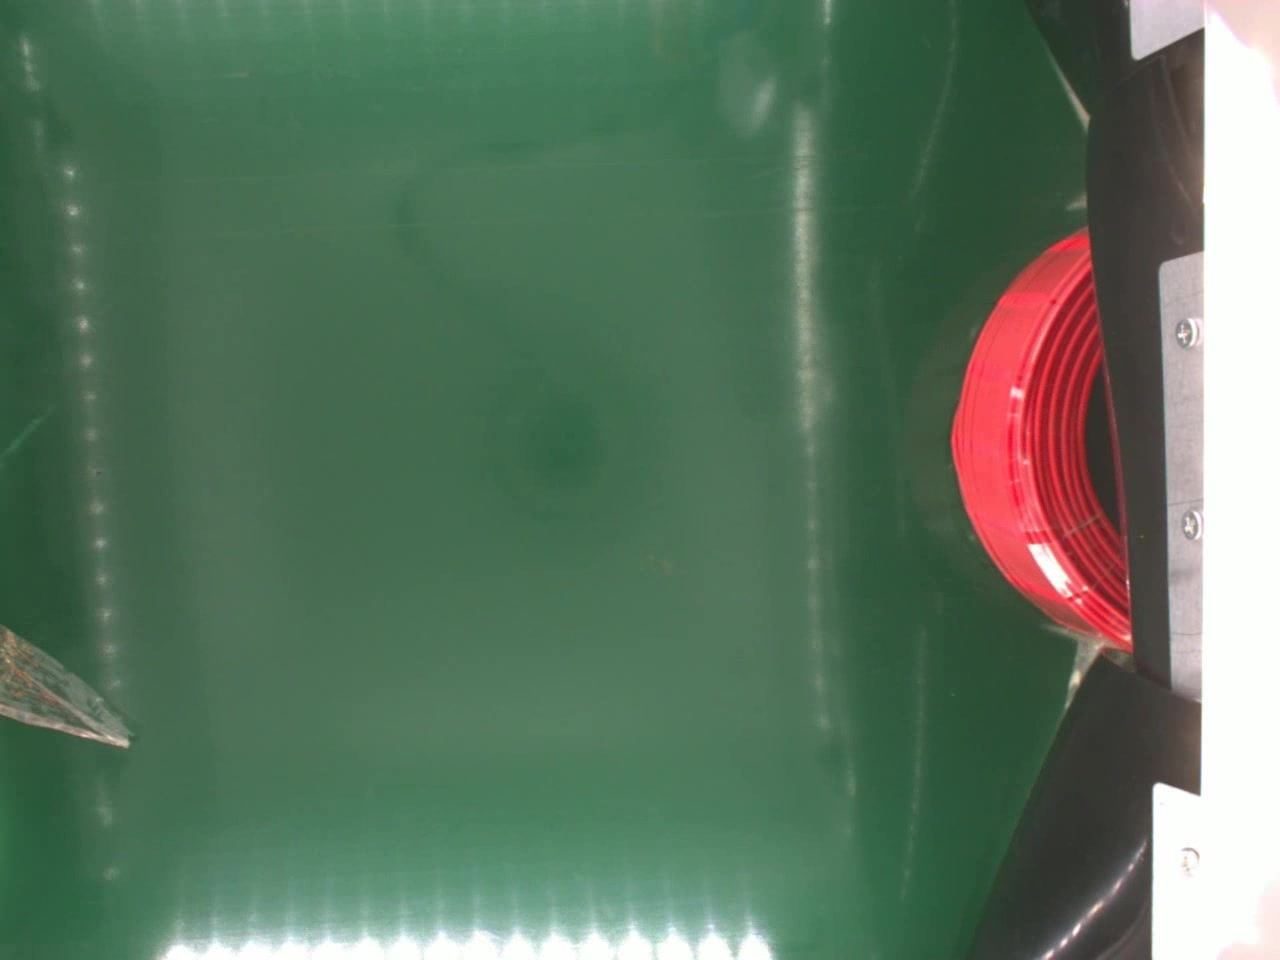red: (952, 225, 1135, 651)
